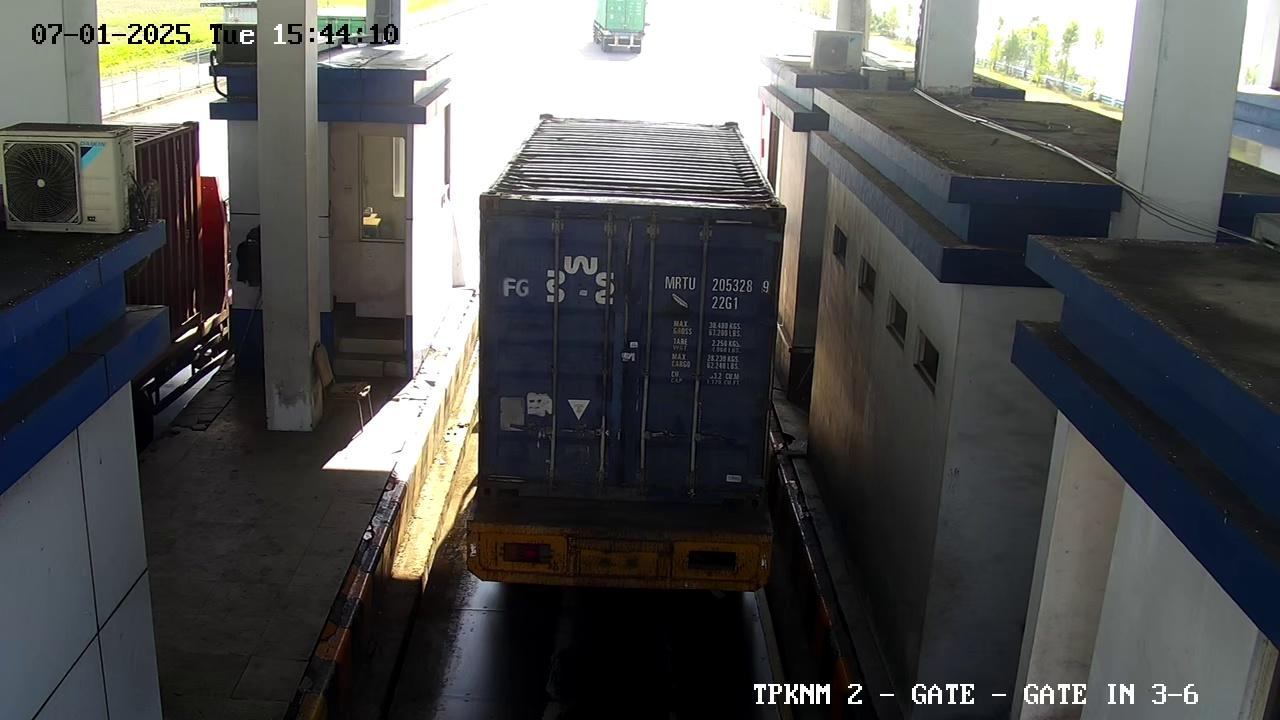Container_ID: (657, 270, 782, 299)
